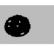correct: (2, 12, 32, 40)
